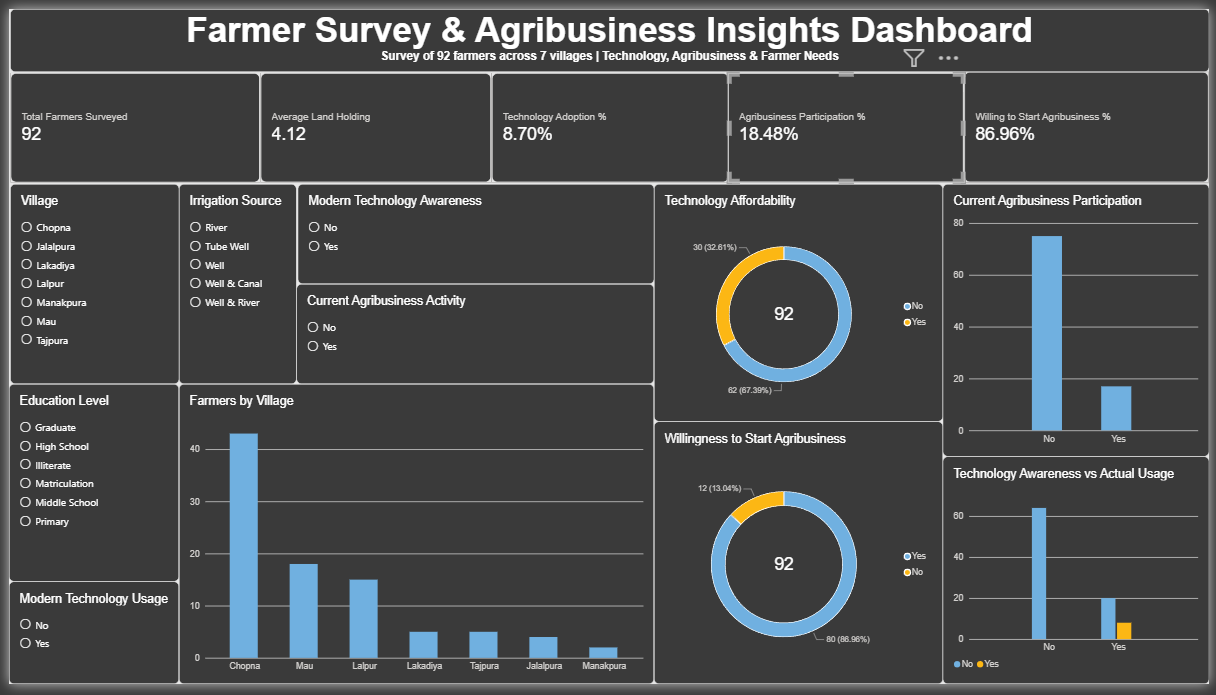

What the dashboard file says about the page in this screenshot:
{"tool":"powerbi","page":{"name":"Executive Overview","canvas":[1920,1080],"ordinal":0},"visuals":[{"type":"cardVisual","fields":{"Data":["farmer_survey_anonymized.Total Farmers Surveyed"]},"box":[2,102,400,176],"z":0},{"type":"cardVisual","fields":{"Data":["farmer_survey_anonymized.Average Land Holding"]},"box":[402,102,370,176],"z":1000},{"type":"cardVisual","fields":{"Data":["farmer_survey_anonymized.Technology Adoption %"]},"box":[772,102,380,176],"z":2000},{"type":"cardVisual","fields":{"Data":["farmer_survey_anonymized.Agribusiness Participation %"]},"box":[1150,102,378,176],"z":3000},{"type":"cardVisual","fields":{"Data":["farmer_survey_anonymized.Willing to Start Agribusiness %"]},"box":[1528,100,392,178],"z":4000},{"type":"listSlicer","fields":{"Values":["farmer_survey_anonymized.Village"]},"box":[2,280,270,320],"z":5000},{"type":"listSlicer","title":"Education Level","fields":{"Values":["farmer_survey_anonymized.Education_Level"]},"box":[0,600,272,316],"z":6000},{"type":"listSlicer","title":"Irrigation Source","fields":{"Values":["farmer_survey_anonymized.Irrigation"]},"box":[272,280,188,320],"z":7000},{"type":"listSlicer","title":"Modern Technology Awareness","fields":{"Values":["farmer_survey_anonymized.Aware_of_Modern_Technology"]},"box":[462,280,570,160],"z":8000},{"type":"listSlicer","title":"Modern Technology Usage","fields":{"Values":["farmer_survey_anonymized.Uses_Modern_Tech"]},"box":[0,916,272,164],"z":9000},{"type":"listSlicer","title":"Current Agribusiness Activity","fields":{"Values":["farmer_survey_anonymized.Involved_in_Agribusiness_Activity"]},"box":[460,440,572,160],"z":10000},{"type":"clusteredColumnChart","title":"Farmers by Village","fields":{"Category":["farmer_survey_anonymized.Village"],"Y":["CountNonNull(farmer_survey_anonymized.Farmer_ID)"]},"box":[272,600,760,480],"z":11000},{"type":"clusteredColumnChart","title":"Technology Awareness vs Actual Usage","fields":{"Category":["farmer_survey_anonymized.Aware_of_Modern_Technology"],"Y":["CountNonNull(farmer_survey_anonymized.Farmer_ID)"],"Series":["farmer_survey_anonymized.Uses_Modern_Tech"]},"box":[1494,716,426,364],"z":12000},{"type":"clusteredColumnChart","title":"Current Agribusiness Participation","fields":{"Category":["farmer_survey_anonymized.Involved_in_Agribusiness_Activity"],"Y":["CountNonNull(farmer_survey_anonymized.Farmer_ID)"]},"box":[1494,280,426,436],"z":14000},{"type":"donutChart","title":"Willingness to Start Agribusiness","fields":{"Y":["CountNonNull(farmer_survey_anonymized.Farmer_ID)"],"Category":["farmer_survey_anonymized.Willing_to_Start_Agribusiness"]},"box":[1032,660,462,420],"z":15000},{"type":"donutChart","title":"Technology Affordability","fields":{"Category":["farmer_survey_anonymized.Technology_Affordable"],"Y":["CountNonNull(farmer_survey_anonymized.Farmer_ID)"]},"box":[1032,280,462,380],"z":21000},{"type":"textbox","box":[2.1,0,1918.4,100.9],"z":25000}]}

Visuals, with their boxes in screenshot pixels (x1, y1, x2, y2), scaled from the page's 1920x1080 canvas onto the 1216x695 screenshot:
cardVisual - farmer_survey_anonymized.Total Farmers Surveyed: locate(1, 66, 255, 179)
cardVisual - farmer_survey_anonymized.Average Land Holding: locate(255, 66, 489, 179)
cardVisual - farmer_survey_anonymized.Technology Adoption %: locate(489, 66, 730, 179)
cardVisual - farmer_survey_anonymized.Agribusiness Participation %: locate(728, 66, 968, 179)
cardVisual - farmer_survey_anonymized.Willing to Start Agribusiness %: locate(968, 64, 1215, 179)
listSlicer - farmer_survey_anonymized.Village: locate(1, 180, 172, 386)
"Education Level" listSlicer: locate(0, 386, 172, 589)
"Irrigation Source" listSlicer: locate(172, 180, 291, 386)
"Modern Technology Awareness" listSlicer: locate(293, 180, 654, 283)
"Modern Technology Usage" listSlicer: locate(0, 589, 172, 694)
"Current Agribusiness Activity" listSlicer: locate(291, 283, 654, 386)
"Farmers by Village" clusteredColumnChart: locate(172, 386, 654, 694)
"Technology Awareness vs Actual Usage" clusteredColumnChart: locate(946, 461, 1215, 694)
"Current Agribusiness Participation" clusteredColumnChart: locate(946, 180, 1215, 461)
"Willingness to Start Agribusiness" donutChart: locate(654, 425, 946, 694)
"Technology Affordability" donutChart: locate(654, 180, 946, 425)
textbox: locate(1, 0, 1215, 65)
